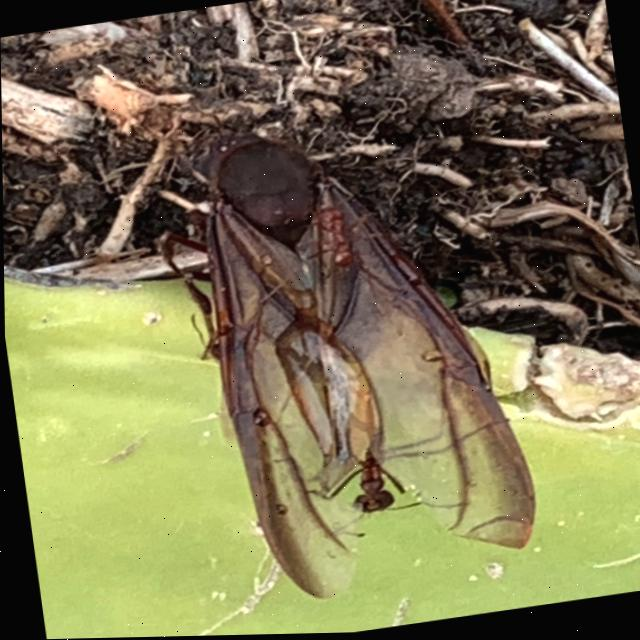Alive-Female-Alate: (141, 97, 545, 618)
